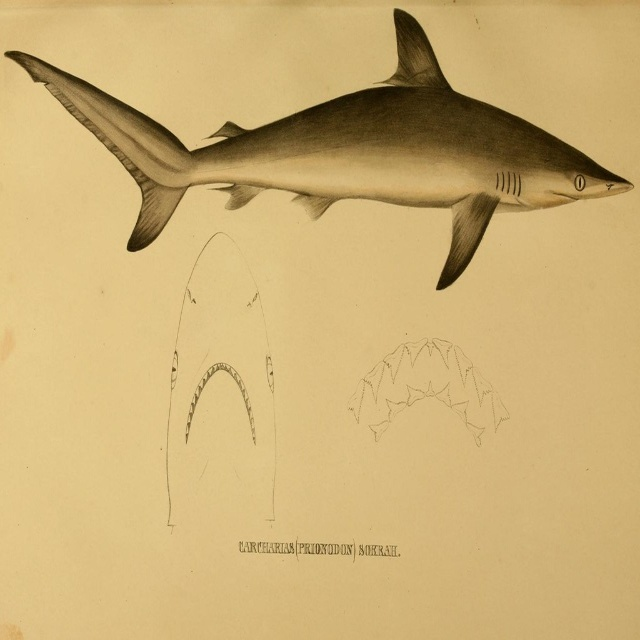Shark: (8, 9, 631, 288)
